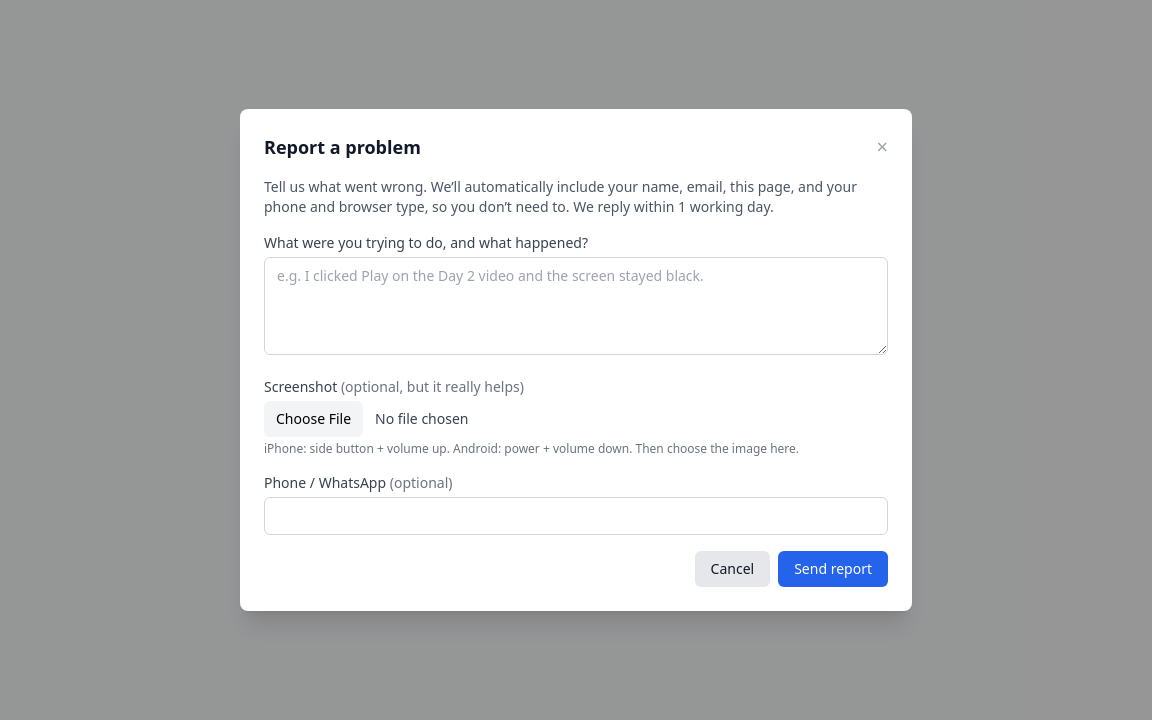
it: ReportProblemDialog › asks for a real description before sending
Click the button "Send report".
click(833, 569)  # box [778,551,888,587]
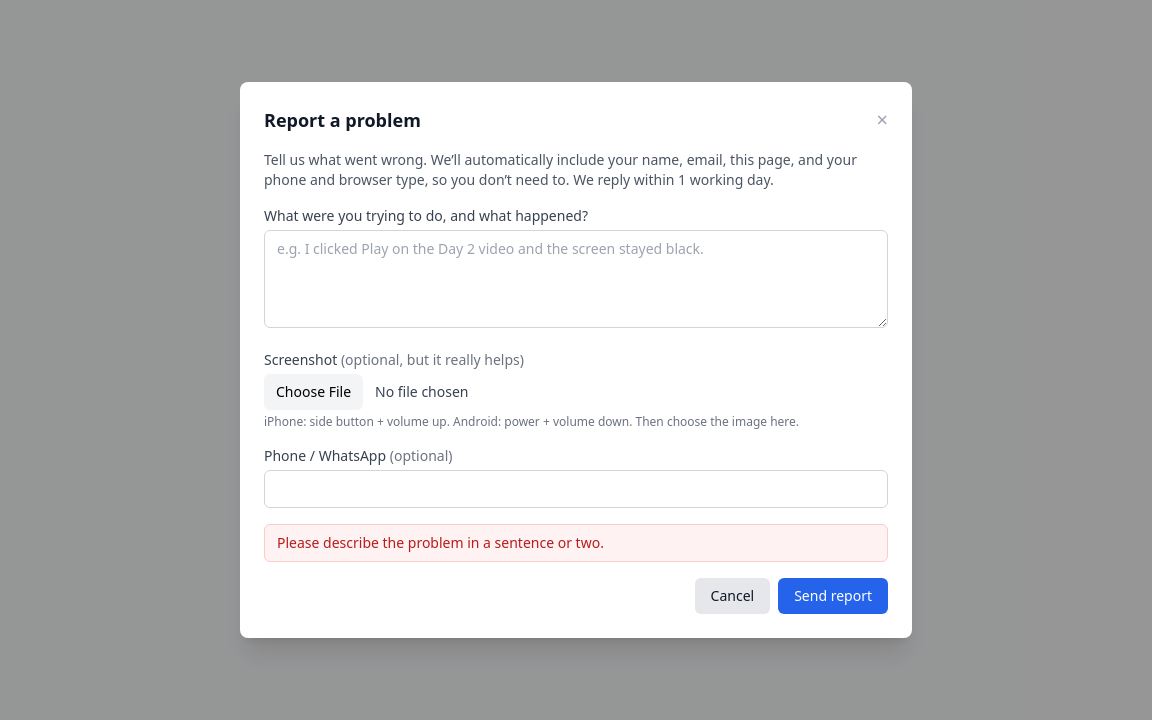
Check: the text "Please describe the problem in a sentence or two." is shown, box [264,524,888,562]
